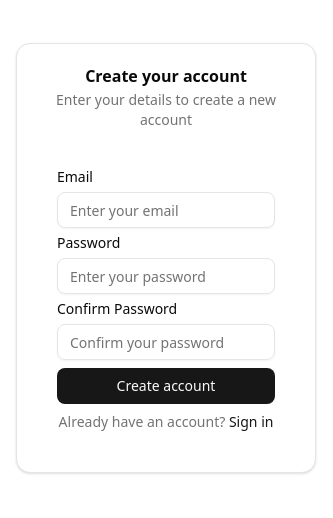
Register › should show error if passwords do not match
Step 1. Type "test@example.com" into the field labelled "Email" → (166,210), box [57, 192, 275, 228]
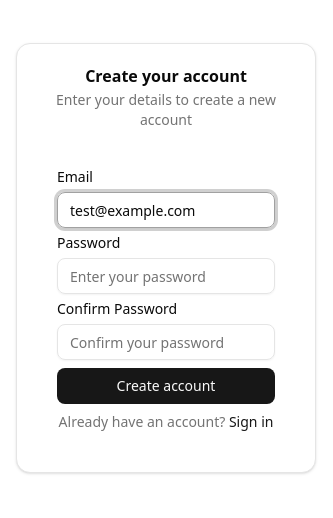
Step 2. Type "password123" into the password field labelled "Password" → (166,276), box [57, 258, 275, 294]
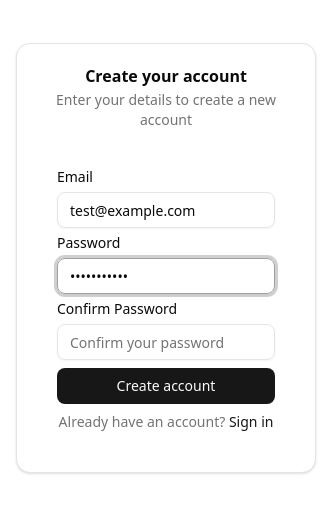
Step 3. Type "password456" into the password field labelled "Confirm Password" → (166,342), box [57, 324, 275, 360]
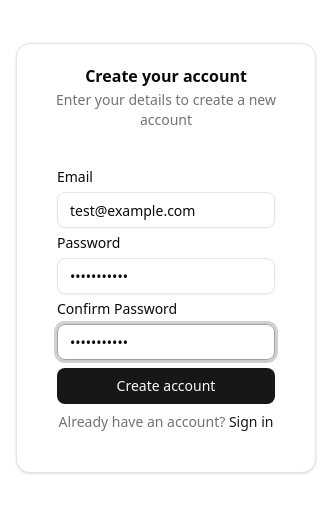
Step 4. Click the button "Create account" → (166,386), box [57, 368, 275, 404]
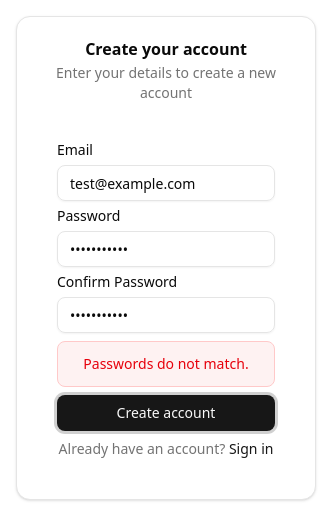
Result: the text "Passwords do not match." is shown at [57, 341, 275, 387]
